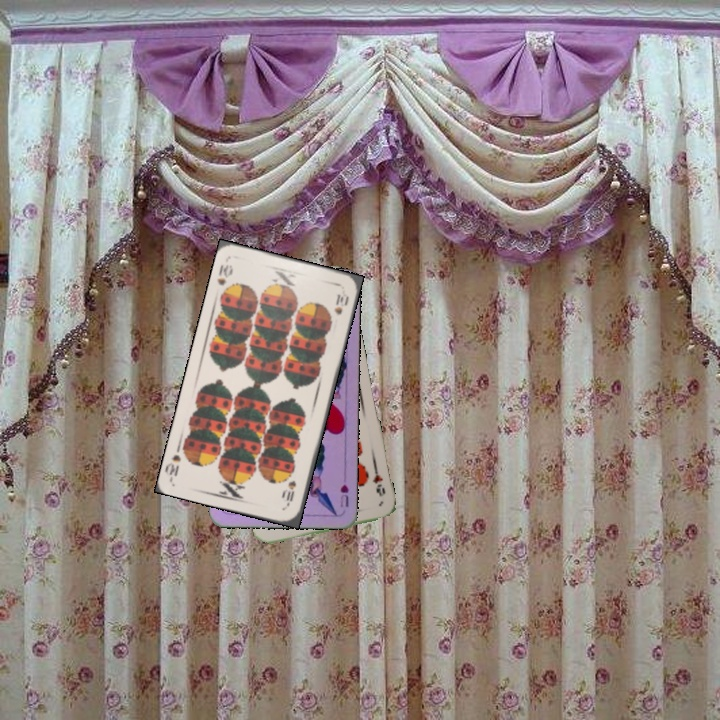H9: (368, 464, 388, 499)
HU: (336, 481, 351, 509)
S10: (213, 261, 236, 288), (282, 477, 299, 509)
